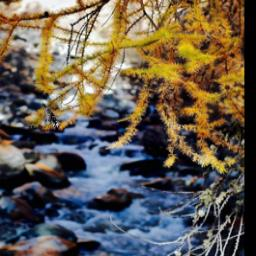Woodpecker: (43, 101, 60, 129)
